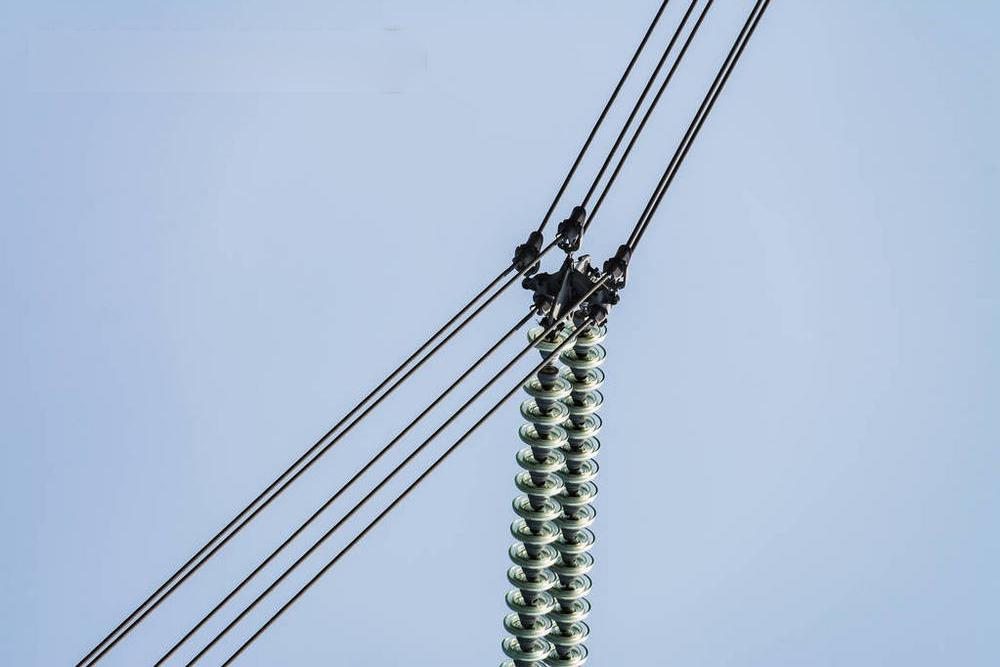insulator: (494, 318, 577, 667), (543, 317, 611, 667)
insulator_stringdrop: (521, 325, 576, 402)
